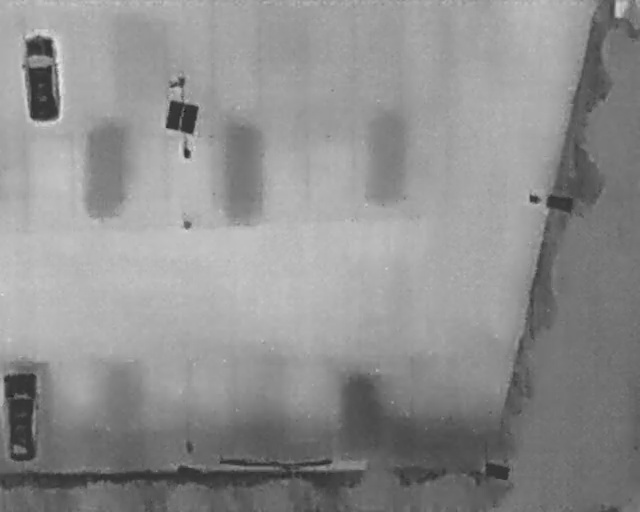Car: (17, 29, 64, 124), (2, 369, 42, 465)
